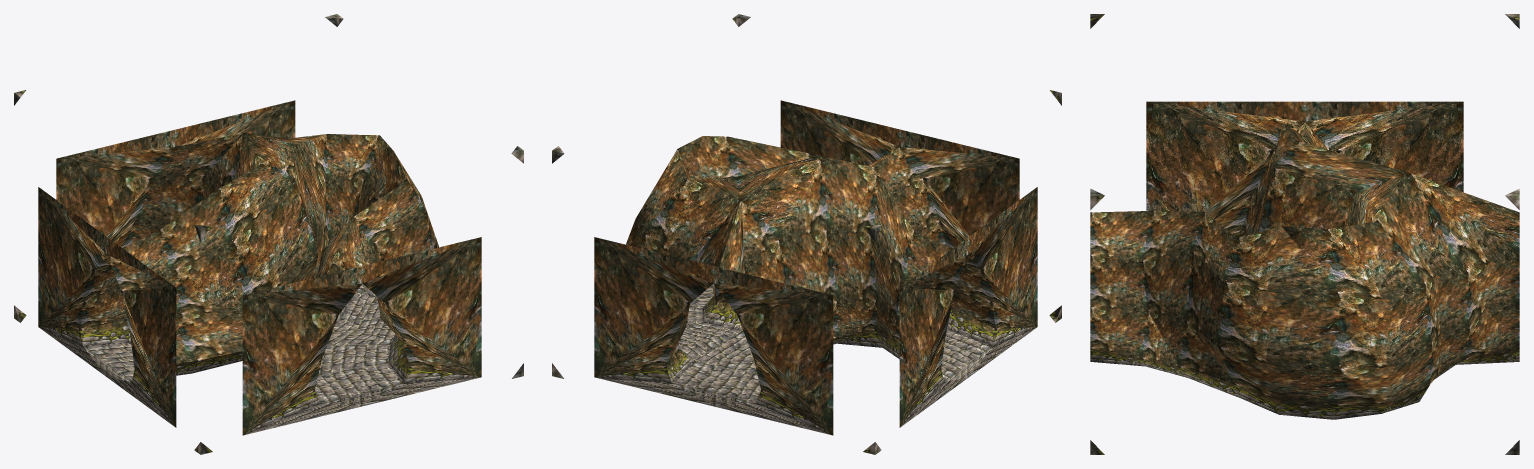
Rendered from lbc_3c.glb.
3 views of the same model, side by side, from view 1: azimuth 30°, elevation 25°; view 2: azimuth 150°, elevation 25°; view 3: azimuth 270°, elevation 25° (orthographic). The views are drawn at different scales.
Parts seen in each view (by area): view 1: lbc_3c-col; view 2: lbc_3c-col; view 3: lbc_3c-col.
Boxes of the visible parts, box(x1,y1,x2,y2) form: lbc_3c-col: box(14, 14, 523, 454); lbc_3c-col: box(552, 14, 1061, 454); lbc_3c-col: box(1090, 14, 1519, 454).
Bounding box in the file's own units: 15.01 × 10 × 15.
3 materials, 3 textured.
